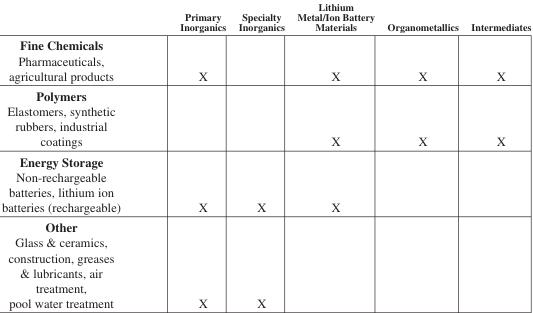table: (0, 0, 530, 309)
table column: (0, 0, 149, 309), (290, 0, 380, 309), (380, 0, 464, 309), (149, 0, 231, 309), (464, 0, 530, 309), (231, 0, 290, 309)
table column header: (0, 0, 530, 35)
table row: (0, 216, 530, 309), (0, 85, 530, 151), (0, 151, 530, 216), (0, 35, 530, 85), (0, 0, 530, 35)
